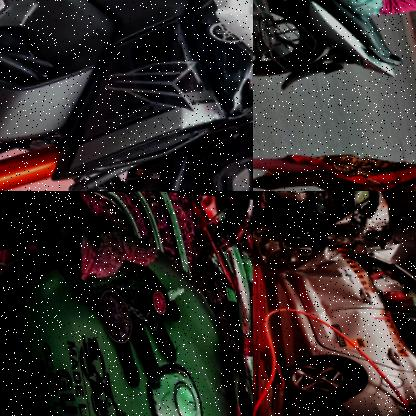bike: (0, 191, 253, 416), (253, 0, 416, 101)
car: (262, 212, 416, 416), (253, 191, 404, 248)
